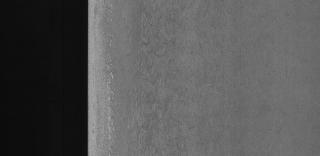silk spot: (127, 3, 237, 153)
